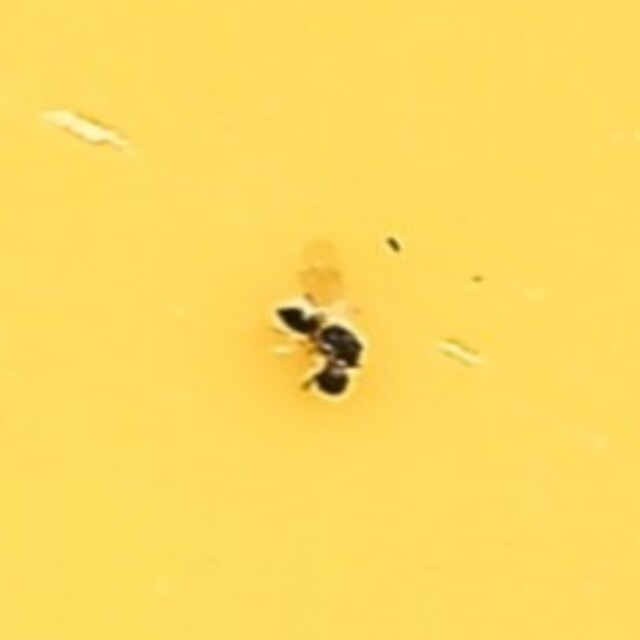Brachycera: (274, 241, 366, 399)
